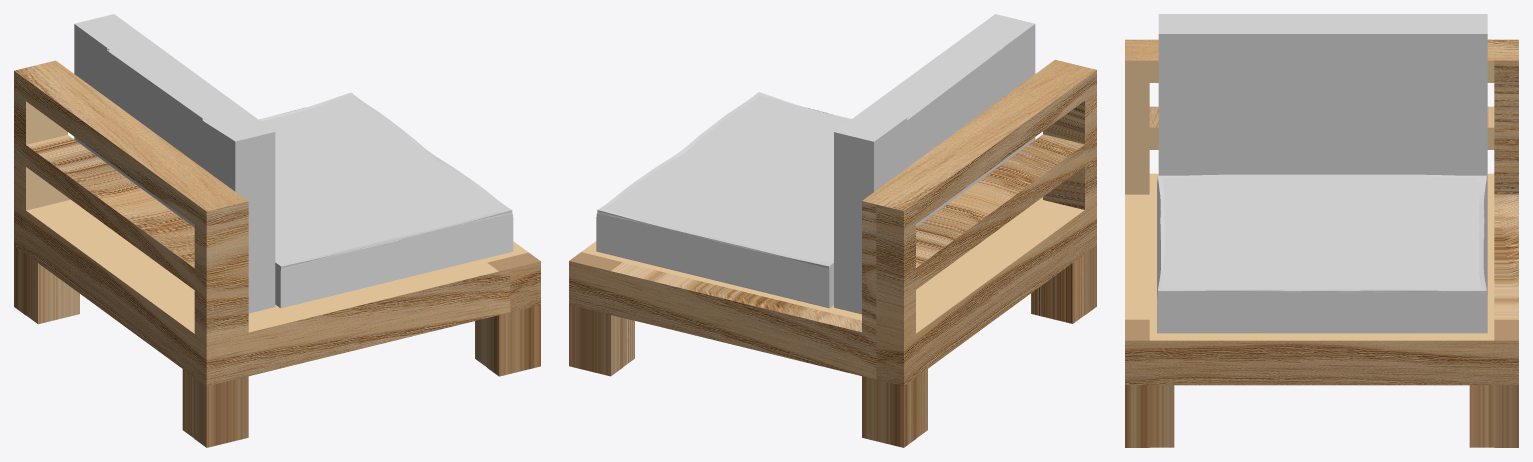
File: patiofurnituresingleseatercouch.fbx
3 views of the same model, side by side, from view 1: azimuth 30°, elevation 25°; view 2: azimuth 150°, elevation 25°; view 3: azimuth 270°, elevation 25° (orthographic). The views are drawn at different scales.
Parts seen in each view (by area): view 1: Cube, Cube.004, Cube.001; view 2: Cube, Cube.004, Cube.001; view 3: Cube.001, Cube.004, Cube.
Part boxes in pixels (x1,y1,x2,y2): Cube: (14, 60, 540, 447); Cube.004: (258, 92, 513, 308); Cube.001: (74, 14, 275, 313); Cube: (569, 59, 1096, 447); Cube.004: (596, 92, 851, 308); Cube.001: (834, 14, 1035, 314); Cube.001: (1158, 14, 1487, 181); Cube.004: (1157, 174, 1487, 333); Cube: (1125, 39, 1518, 447).
Bounding box in the file's own units: 800 × 648 × 799.
